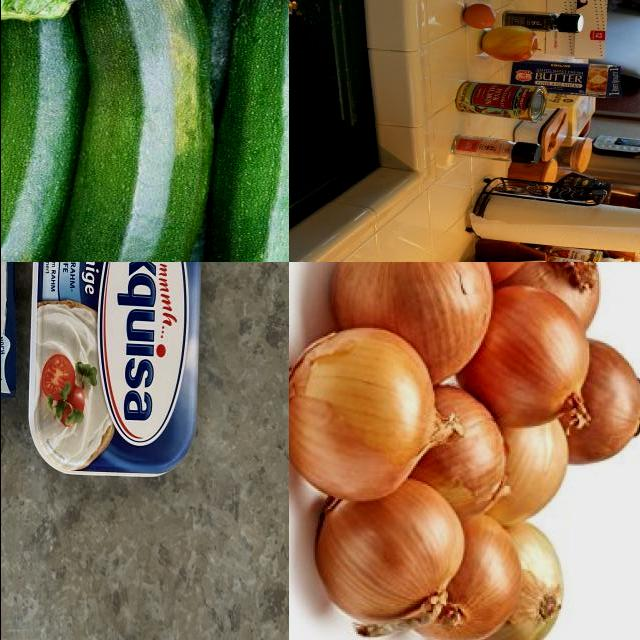bell_pepper: (504, 12, 580, 36)
egg: (462, 4, 494, 33)
onion: (289, 332, 465, 501), (309, 482, 463, 626), (327, 263, 495, 384), (462, 284, 596, 429), (403, 518, 525, 640), (450, 523, 566, 640), (413, 382, 509, 520), (559, 337, 640, 466), (490, 263, 599, 335)
